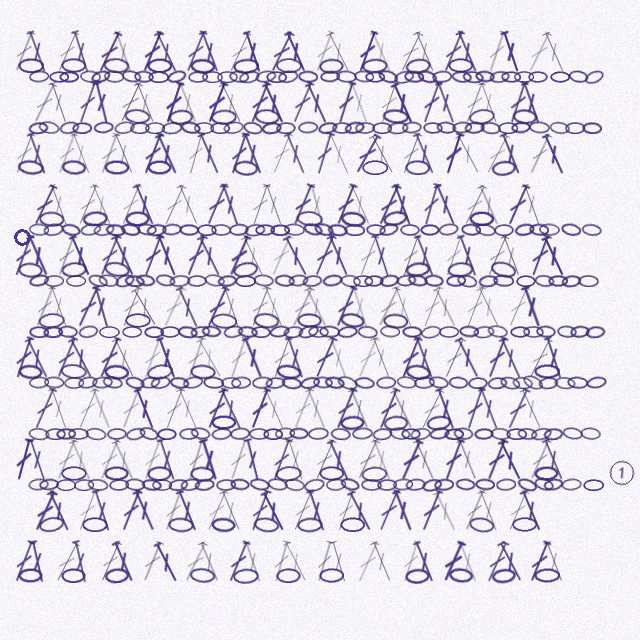chain: (489, 259, 518, 280), (146, 362, 174, 382), (468, 107, 496, 126), (103, 260, 131, 279), (382, 209, 409, 228), (232, 260, 259, 279), (339, 311, 366, 330), (38, 515, 65, 534), (275, 363, 302, 381), (253, 516, 280, 534), (468, 516, 495, 534), (405, 57, 431, 75), (491, 159, 517, 177), (340, 210, 366, 228), (405, 363, 431, 381), (426, 414, 452, 432), (491, 567, 517, 585), (103, 57, 130, 74), (124, 108, 151, 125), (382, 108, 409, 125), (17, 159, 44, 176), (296, 210, 323, 227), (447, 261, 474, 278), (38, 312, 65, 329), (253, 312, 280, 329), (60, 363, 87, 380), (275, 465, 302, 482), (189, 567, 216, 584), (521, 373, 545, 392), (254, 108, 280, 125), (512, 108, 538, 125), (61, 159, 87, 176), (82, 210, 108, 227), (61, 261, 87, 278), (405, 261, 431, 278), (104, 567, 130, 584), (448, 567, 474, 584), (361, 466, 388, 482), (233, 58, 259, 74), (362, 58, 388, 74), (168, 109, 194, 125), (211, 109, 237, 125), (233, 160, 259, 176), (211, 313, 237, 329), (190, 364, 216, 380), (383, 415, 409, 431), (168, 517, 194, 533), (297, 517, 323, 533), (233, 568, 259, 584), (583, 68, 606, 86), (336, 374, 359, 392), (190, 58, 215, 74), (319, 58, 344, 74), (39, 211, 64, 227), (18, 262, 43, 278), (383, 313, 408, 329), (18, 364, 43, 380), (104, 364, 129, 380), (340, 415, 365, 431), (190, 466, 215, 482), (211, 517, 236, 533), (405, 568, 430, 584), (516, 476, 538, 494), (297, 323, 320, 340), (18, 58, 44, 73), (276, 58, 302, 73), (362, 160, 388, 175), (125, 313, 151, 328), (534, 364, 560, 379), (61, 466, 87, 481), (82, 517, 108, 532), (534, 568, 560, 583), (61, 58, 86, 73), (147, 58, 172, 73), (448, 58, 473, 73), (104, 160, 129, 175), (147, 160, 172, 175), (405, 160, 430, 175), (125, 211, 150, 226), (469, 211, 494, 226), (297, 313, 322, 328), (211, 415, 236, 430), (104, 466, 129, 481), (147, 466, 172, 481), (319, 466, 344, 481), (534, 466, 559, 481), (340, 517, 365, 532), (512, 517, 537, 532), (18, 568, 43, 583), (61, 568, 86, 583), (276, 568, 301, 583), (319, 568, 344, 583), (90, 68, 112, 85), (166, 68, 188, 85), (377, 68, 399, 85), (416, 68, 438, 85), (302, 221, 324, 238), (313, 221, 335, 238), (378, 221, 400, 238), (114, 272, 136, 289), (138, 425, 160, 442), (339, 476, 361, 493), (533, 476, 555, 493), (238, 69, 261, 85), (474, 222, 497, 238), (530, 426, 553, 442), (303, 477, 326, 493), (393, 69, 415, 85), (242, 120, 264, 136), (317, 120, 339, 136), (60, 222, 82, 238), (87, 273, 109, 289), (456, 273, 478, 289), (420, 324, 442, 340), (124, 375, 146, 391), (299, 375, 321, 391), (499, 375, 521, 391), (125, 426, 147, 442), (421, 477, 443, 493), (255, 69, 277, 84), (277, 69, 299, 84), (38, 120, 60, 135), (80, 222, 102, 237), (93, 222, 115, 237), (560, 222, 582, 237), (28, 273, 50, 288), (77, 375, 99, 390), (182, 375, 204, 390), (389, 426, 411, 441), (121, 69, 142, 84), (568, 69, 589, 84), (59, 120, 80, 135), (114, 120, 135, 135), (180, 120, 201, 135), (223, 120, 244, 135), (344, 120, 365, 135), (43, 222, 64, 237), (120, 222, 141, 237), (438, 222, 459, 237), (514, 222, 535, 237), (98, 273, 119, 288), (135, 273, 156, 288), (155, 273, 176, 288), (204, 273, 225, 288), (322, 273, 343, 288), (379, 273, 400, 288), (407, 273, 428, 288), (78, 324, 99, 339), (223, 324, 244, 339), (269, 324, 290, 339), (487, 324, 508, 339), (102, 375, 123, 390), (140, 375, 161, 390), (150, 375, 171, 390), (324, 375, 345, 390), (396, 375, 417, 390), (428, 375, 449, 390), (586, 375, 607, 390), (190, 426, 211, 441), (429, 426, 450, 441), (562, 426, 583, 441), (180, 477, 201, 492), (249, 477, 270, 492), (267, 477, 288, 492), (543, 477, 564, 492), (462, 70, 484, 84), (161, 121, 183, 135), (387, 121, 409, 135), (244, 223, 266, 237), (169, 274, 191, 288), (473, 325, 495, 339), (554, 376, 576, 390), (28, 427, 50, 441), (85, 427, 107, 441), (87, 478, 109, 492), (451, 70, 472, 84), (489, 70, 510, 84), (28, 121, 49, 135), (261, 121, 282, 135), (480, 121, 501, 135), (549, 121, 570, 135), (105, 223, 126, 237), (146, 223, 167, 237), (327, 223, 348, 237), (581, 223, 602, 237), (124, 274, 145, 288), (217, 274, 238, 288), (302, 274, 323, 288), (340, 274, 361, 288), (478, 274, 499, 288), (534, 274, 555, 288), (561, 274, 582, 288), (177, 325, 198, 339), (190, 325, 211, 339), (237, 325, 258, 339), (283, 325, 304, 339), (337, 325, 358, 339), (357, 325, 378, 339), (585, 325, 606, 339), (169, 376, 190, 390), (265, 376, 286, 390), (281, 376, 302, 390), (354, 376, 375, 390), (487, 376, 508, 390), (512, 376, 533, 390), (538, 376, 559, 390), (211, 427, 232, 441), (330, 427, 351, 441), (372, 427, 393, 441), (410, 427, 431, 441), (490, 427, 511, 441), (517, 427, 538, 441), (543, 427, 564, 441), (141, 478, 162, 492), (168, 478, 189, 492), (194, 478, 215, 492), (284, 478, 305, 492), (80, 70, 101, 83), (336, 70, 357, 83), (93, 121, 114, 134), (436, 121, 457, 134), (464, 121, 485, 134), (529, 121, 550, 134), (284, 223, 305, 236), (539, 223, 560, 236), (253, 274, 274, 287), (274, 274, 295, 287), (288, 274, 309, 287), (396, 274, 417, 287), (493, 274, 514, 287), (201, 325, 222, 338), (319, 325, 340, 338), (92, 376, 113, 389), (203, 376, 224, 389), (252, 376, 273, 389), (414, 376, 435, 389), (448, 376, 469, 389), (567, 376, 588, 389), (308, 427, 329, 440), (352, 427, 373, 440), (453, 427, 474, 440), (580, 427, 601, 440), (28, 478, 49, 491), (405, 478, 426, 491), (455, 478, 476, 491), (561, 478, 582, 491), (29, 70, 49, 83), (104, 70, 124, 83), (134, 70, 154, 83), (229, 70, 249, 83), (298, 70, 318, 83), (320, 70, 340, 83), (354, 70, 374, 83), (404, 70, 424, 83), (432, 70, 452, 83), (475, 70, 495, 83), (298, 121, 318, 134), (402, 121, 422, 134), (452, 121, 472, 134), (511, 121, 531, 134), (29, 223, 49, 236), (137, 223, 157, 236), (162, 223, 182, 236), (229, 223, 249, 236), (461, 223, 481, 236), (529, 223, 549, 236), (424, 274, 444, 287), (446, 274, 466, 287), (58, 325, 78, 338), (380, 325, 400, 338), (459, 325, 479, 338), (536, 325, 556, 338), (557, 325, 577, 338), (570, 325, 590, 338), (29, 376, 49, 389), (44, 376, 64, 389), (231, 376, 251, 389), (313, 376, 333, 389), (376, 376, 396, 389), (230, 427, 250, 440), (275, 427, 295, 440), (289, 427, 309, 440), (39, 478, 59, 491), (125, 478, 145, 491), (230, 478, 250, 491), (326, 478, 346, 491), (393, 478, 413, 491), (434, 478, 454, 491), (475, 478, 495, 491), (496, 478, 516, 491), (148, 71, 169, 83), (202, 71, 223, 83), (217, 71, 238, 83), (266, 71, 287, 83), (344, 224, 365, 236), (235, 275, 256, 287), (578, 275, 599, 287), (99, 326, 120, 338), (308, 326, 329, 338), (523, 326, 544, 338), (45, 428, 66, 440), (68, 428, 89, 440), (506, 428, 527, 440), (361, 479, 382, 491), (583, 479, 604, 491), (49, 71, 69, 83), (59, 71, 79, 83), (188, 71, 208, 83), (365, 71, 385, 83), (501, 71, 521, 83), (514, 71, 534, 83), (528, 71, 548, 83), (550, 71, 570, 83), (72, 122, 92, 134), (130, 122, 150, 134), (145, 122, 165, 134), (194, 122, 214, 134), (210, 122, 230, 134), (276, 122, 296, 134), (332, 122, 352, 134), (355, 122, 375, 134), (372, 122, 392, 134), (423, 122, 443, 134), (498, 122, 518, 134), (565, 122, 585, 134), (582, 122, 602, 134), (179, 224, 199, 236), (197, 224, 217, 236), (211, 224, 231, 236), (255, 224, 275, 236), (270, 224, 290, 236), (366, 224, 386, 236), (400, 224, 420, 236), (420, 224, 440, 236), (494, 224, 514, 236), (44, 275, 64, 287), (66, 275, 86, 287), (187, 275, 207, 287), (353, 275, 373, 287), (364, 275, 384, 287), (516, 275, 536, 287), (548, 275, 568, 287), (29, 326, 49, 338), (43, 326, 63, 338), (122, 326, 142, 338), (144, 326, 164, 338), (160, 326, 180, 338), (251, 326, 271, 338), (402, 326, 422, 338), (439, 326, 459, 338), (510, 326, 530, 338), (64, 377, 84, 389), (221, 377, 241, 389), (468, 377, 488, 389), (56, 428, 76, 440), (107, 428, 127, 440), (157, 428, 177, 440), (179, 428, 199, 440), (249, 428, 269, 440), (263, 428, 283, 440), (401, 428, 421, 440), (444, 428, 464, 440), (474, 428, 494, 440), (56, 479, 76, 491), (74, 479, 94, 491), (109, 479, 129, 491), (152, 479, 172, 491), (216, 479, 236, 491), (377, 479, 397, 491)
double: (128, 285, 162, 329), (494, 539, 527, 584), (351, 132, 384, 176), (193, 336, 226, 380), (452, 335, 484, 380), (280, 539, 312, 584), (366, 132, 398, 176), (452, 132, 484, 176), (481, 132, 513, 176), (280, 234, 312, 278), (65, 336, 97, 380), (344, 489, 376, 533), (115, 80, 146, 125), (108, 233, 139, 278), (516, 386, 547, 431), (352, 437, 383, 482), (409, 437, 440, 482), (438, 539, 469, 584), (94, 30, 125, 74), (151, 30, 182, 74), (266, 30, 297, 74), (323, 30, 354, 74), (395, 30, 426, 74), (524, 30, 555, 74), (29, 81, 60, 125), (29, 183, 60, 227), (459, 183, 490, 227), (194, 234, 225, 278), (287, 285, 318, 329), (301, 285, 332, 329), (373, 285, 404, 329), (430, 285, 461, 329), (473, 285, 504, 329), (22, 336, 53, 380), (524, 336, 555, 380), (387, 387, 418, 431), (416, 387, 447, 431), (495, 438, 526, 482), (258, 489, 289, 533), (430, 489, 461, 533), (51, 540, 82, 584), (151, 540, 182, 584), (180, 540, 211, 584), (52, 29, 82, 74), (281, 29, 311, 74), (267, 131, 297, 176), (173, 182, 203, 227), (288, 182, 318, 227), (345, 182, 375, 227), (23, 233, 53, 278), (224, 233, 254, 278), (482, 233, 512, 278), (503, 284, 533, 329), (310, 335, 340, 380), (353, 335, 383, 380), (525, 437, 555, 482), (216, 488, 246, 533), (374, 488, 404, 533), (95, 539, 125, 584), (224, 30, 254, 74), (539, 30, 569, 74), (216, 81, 246, 125), (259, 81, 289, 125), (302, 81, 332, 125), (388, 81, 418, 125), (152, 132, 182, 176), (324, 132, 354, 176), (525, 132, 555, 176), (539, 132, 569, 176), (159, 183, 189, 227), (374, 183, 404, 227), (474, 183, 504, 227), (503, 183, 533, 227), (238, 234, 268, 278), (539, 234, 569, 278), (73, 285, 103, 329), (159, 285, 189, 329), (173, 285, 203, 329), (202, 285, 232, 329), (109, 336, 139, 380), (439, 336, 469, 380), (496, 336, 526, 380), (216, 387, 246, 431), (259, 387, 289, 431), (503, 387, 533, 431), (66, 438, 96, 482), (109, 438, 139, 482), (324, 438, 354, 482), (396, 438, 426, 482), (30, 489, 60, 533), (44, 489, 74, 533), (353, 540, 383, 584), (482, 540, 512, 584), (138, 29, 167, 74), (181, 29, 210, 74), (367, 29, 396, 74), (410, 29, 439, 74), (439, 29, 468, 74), (453, 29, 482, 74), (288, 80, 317, 125), (460, 80, 489, 125), (109, 131, 138, 176), (195, 131, 224, 176), (281, 131, 310, 176), (410, 131, 439, 176), (73, 182, 102, 227), (87, 182, 116, 227), (116, 182, 145, 227), (130, 182, 159, 227), (202, 182, 231, 227), (431, 182, 460, 227), (66, 233, 95, 278), (95, 233, 124, 278), (267, 233, 296, 278), (310, 233, 339, 278), (324, 233, 353, 278), (259, 284, 288, 329), (331, 284, 360, 329), (52, 335, 81, 380), (95, 335, 124, 380), (367, 335, 396, 380), (396, 335, 425, 380), (30, 386, 59, 431), (73, 386, 102, 431), (87, 386, 116, 431), (173, 386, 202, 431), (302, 386, 331, 431), (331, 386, 360, 431), (345, 386, 374, 431), (374, 386, 403, 431), (52, 437, 81, 482), (95, 437, 124, 482), (310, 437, 339, 482), (453, 437, 482, 482), (482, 437, 511, 482), (539, 437, 568, 482), (73, 488, 102, 533), (130, 488, 159, 533), (173, 488, 202, 533), (202, 488, 231, 533), (288, 488, 317, 533), (417, 488, 446, 533), (460, 488, 489, 533), (474, 488, 503, 533), (503, 488, 532, 533), (517, 488, 546, 533), (109, 539, 138, 584), (138, 539, 167, 584), (195, 539, 224, 584), (224, 539, 253, 584), (367, 539, 396, 584), (410, 539, 439, 584), (525, 539, 554, 584), (10, 29, 38, 74), (196, 29, 224, 74), (131, 80, 159, 125), (174, 80, 202, 125), (203, 80, 231, 125), (246, 80, 274, 125), (375, 80, 403, 125), (432, 80, 460, 125), (10, 131, 38, 176), (53, 131, 81, 176), (67, 131, 95, 176), (139, 131, 167, 176), (239, 131, 267, 176), (397, 131, 425, 176), (497, 131, 525, 176), (332, 182, 360, 227), (139, 233, 167, 278), (153, 233, 181, 278), (182, 233, 210, 278), (354, 233, 382, 278), (411, 233, 439, 278), (454, 233, 482, 278), (497, 233, 525, 278), (526, 233, 554, 278), (31, 284, 59, 329), (117, 284, 145, 329), (246, 284, 274, 329), (389, 284, 417, 329), (418, 284, 446, 329), (461, 284, 489, 329), (518, 284, 546, 329), (153, 335, 181, 380), (239, 335, 267, 380), (483, 335, 511, 380), (117, 386, 145, 431), (131, 386, 159, 431), (160, 386, 188, 431), (203, 386, 231, 431), (246, 386, 274, 431), (289, 386, 317, 431), (432, 386, 460, 431), (475, 386, 503, 431), (368, 437, 396, 482), (117, 488, 145, 533), (246, 488, 274, 533), (389, 488, 417, 533), (10, 539, 38, 584), (454, 539, 482, 584), (540, 539, 568, 584), (24, 29, 51, 74), (110, 29, 137, 74), (311, 29, 338, 74), (354, 29, 381, 74), (45, 80, 72, 125), (74, 80, 101, 125), (346, 80, 373, 125), (418, 80, 445, 125), (475, 80, 502, 125), (518, 80, 545, 125), (24, 131, 51, 176), (96, 131, 123, 176), (45, 182, 72, 227), (217, 182, 244, 227), (260, 182, 287, 227), (389, 182, 416, 227), (518, 182, 545, 227), (10, 233, 37, 278), (53, 233, 80, 278), (368, 233, 395, 278), (397, 233, 424, 278), (440, 233, 467, 278), (45, 284, 72, 329), (139, 335, 166, 380), (225, 335, 252, 380), (268, 335, 295, 380), (282, 335, 309, 380), (325, 335, 352, 380), (411, 335, 438, 380), (45, 386, 72, 431), (24, 437, 51, 482), (139, 437, 166, 482), (196, 437, 223, 482), (225, 437, 252, 482), (268, 437, 295, 482), (282, 437, 309, 482), (440, 437, 467, 482), (160, 488, 187, 533), (303, 488, 330, 533), (332, 488, 359, 533), (68, 29, 94, 74), (240, 29, 266, 74), (484, 29, 510, 74), (498, 29, 524, 74), (161, 80, 187, 125), (333, 80, 359, 125), (505, 80, 531, 125), (226, 131, 252, 176), (441, 131, 467, 176), (247, 182, 273, 227), (218, 284, 244, 329), (347, 284, 373, 329), (11, 335, 37, 380), (183, 335, 209, 380), (541, 335, 567, 380), (462, 386, 488, 431), (154, 437, 180, 482), (183, 437, 209, 482), (89, 488, 115, 533), (240, 539, 266, 584), (398, 539, 424, 584), (183, 131, 208, 176), (312, 131, 337, 176), (419, 182, 444, 227), (89, 284, 114, 329), (269, 539, 294, 584), (312, 539, 337, 584), (326, 539, 351, 584), (305, 182, 329, 227), (12, 437, 36, 482), (90, 80, 113, 125), (241, 437, 264, 482), (26, 539, 49, 584), (69, 539, 92, 584)
noise: (607, 458, 636, 487), (11, 226, 33, 248)
